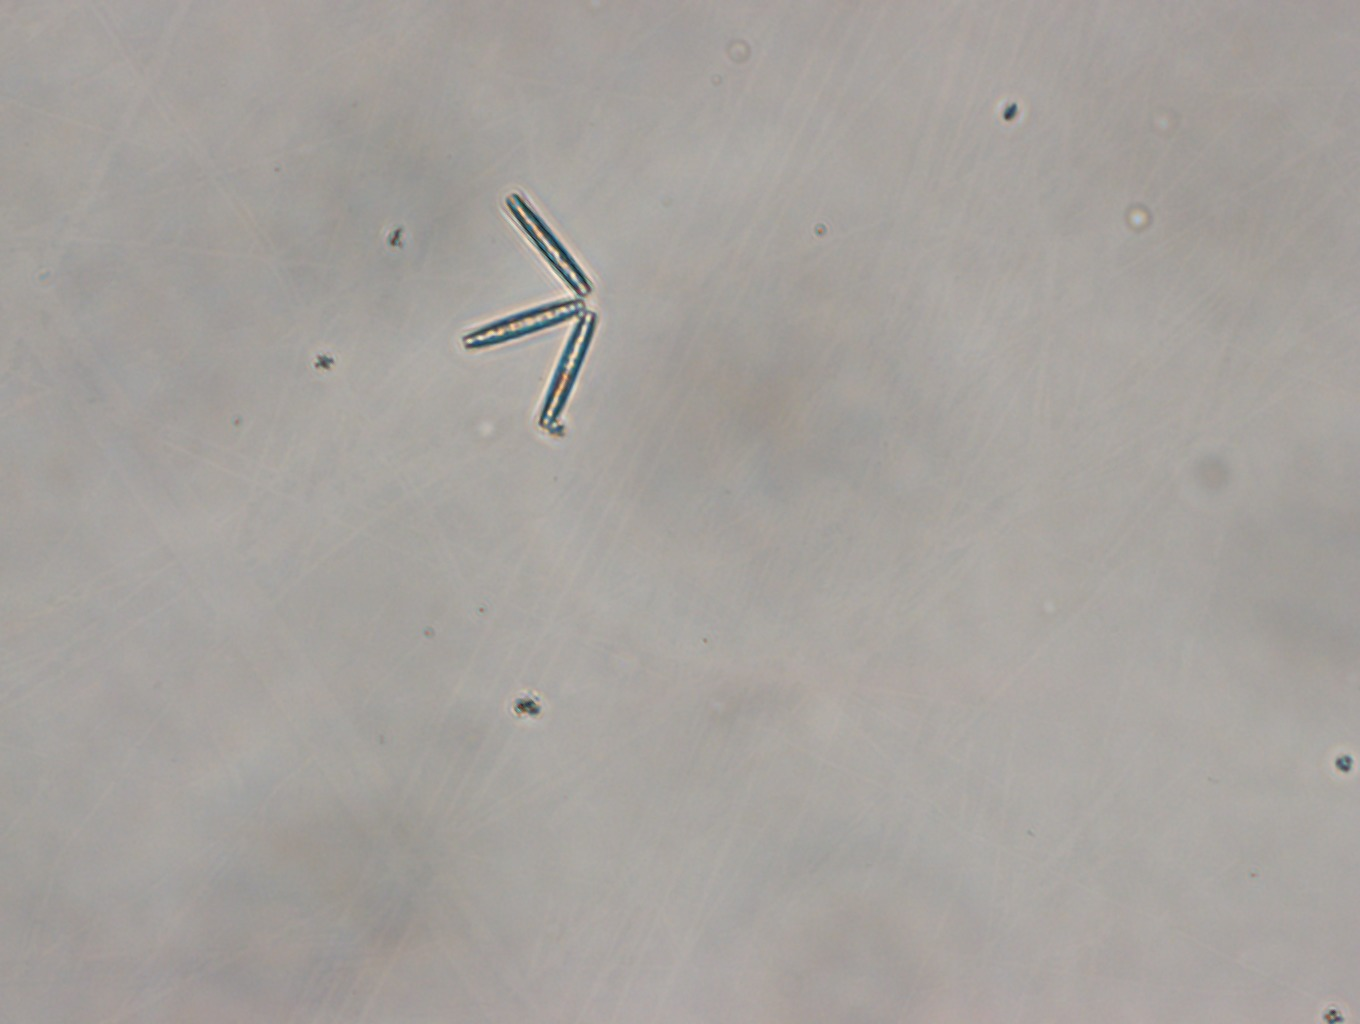thalassionema frauenfeldii: (455, 190, 606, 442)
